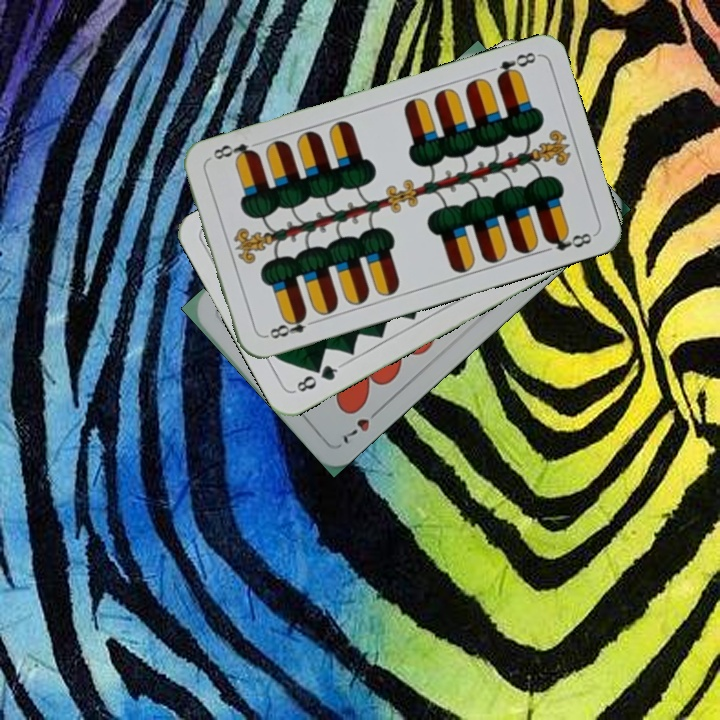E8: (261, 309, 319, 342), (492, 48, 539, 83)
G8: (290, 360, 344, 395)
H7: (338, 403, 385, 447)
